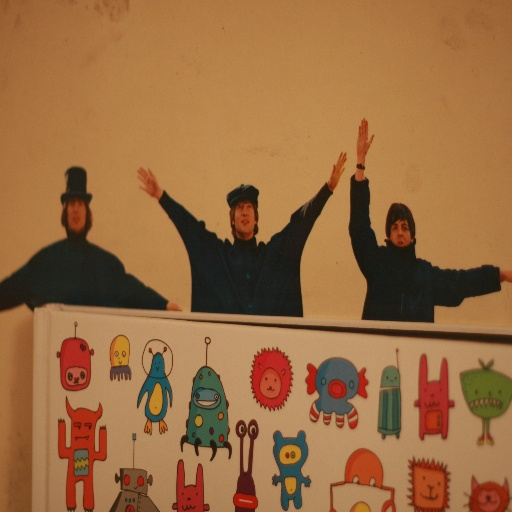hand: (354, 116, 383, 172), (134, 165, 160, 197), (328, 148, 348, 185)
